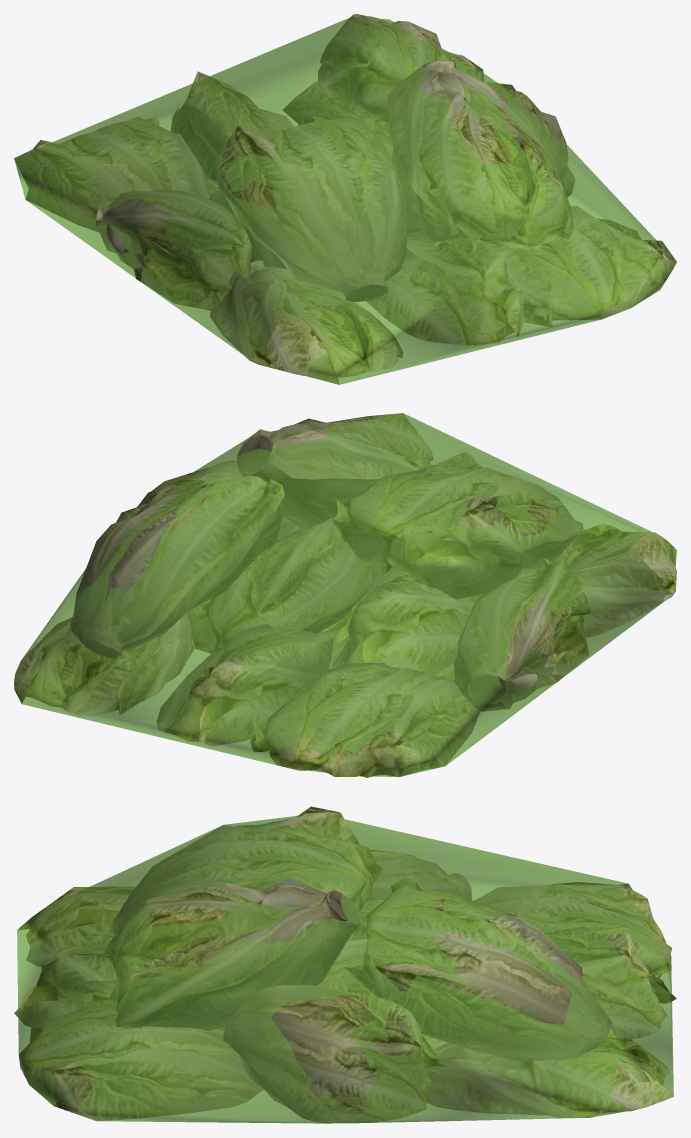
File: pg_Lettuce_Pile_01.fbx
3 views of the same model, one above another, from view 1: azimuth 30°, elevation 25°; view 2: azimuth 150°, elevation 25°; view 3: azimuth 270°, elevation 25° (orthographic). The views are drawn at different scales.
Parts seen in each view (by area): view 1: pg_Lettuce_Pile_01_LOD0, pg_Lettuce_01_a_col; view 2: pg_Lettuce_Pile_01_LOD0, pg_Lettuce_01_a_col; view 3: pg_Lettuce_Pile_01_LOD0, pg_Lettuce_01_a_col.
Part boxes in pixels (bbox=[...]): pg_Lettuce_Pile_01_LOD0: bbox=[14, 14, 676, 384]; pg_Lettuce_01_a_col: bbox=[14, 16, 676, 384]; pg_Lettuce_Pile_01_LOD0: bbox=[14, 413, 676, 777]; pg_Lettuce_01_a_col: bbox=[21, 413, 676, 776]; pg_Lettuce_Pile_01_LOD0: bbox=[14, 806, 676, 1123]; pg_Lettuce_01_a_col: bbox=[17, 815, 673, 1123].
Size of what is drawn, in the model's own units: 34.77 by 12.51 by 44.94.
